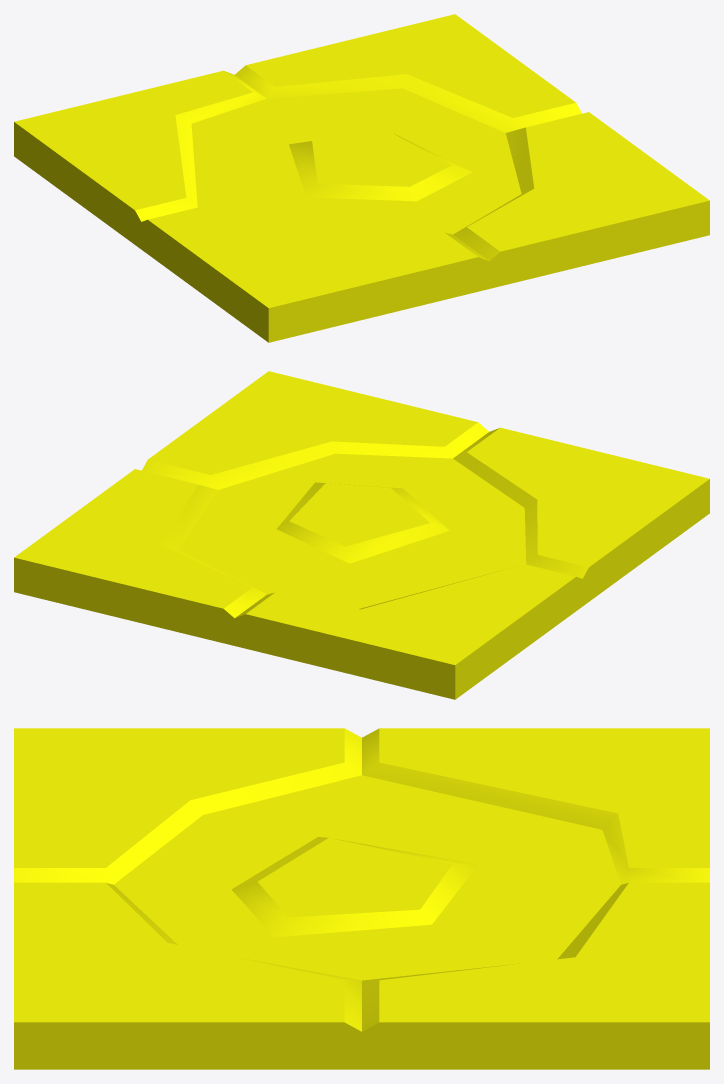
Rendered from kaykit-floor-tile-small-broken-a.glb.
3 views of the same model, one above another, from view 1: azimuth 30°, elevation 25°; view 2: azimuth 150°, elevation 25°; view 3: azimuth 270°, elevation 25° (orthographic). The views are drawn at different scales.
Visible parts, largest first — view 1: floor_tile_small_broken_A; view 2: floor_tile_small_broken_A; view 3: floor_tile_small_broken_A.
Part boxes in pixels (left/top/right/bottom): floor_tile_small_broken_A: left=14, top=14, right=709, bottom=342; floor_tile_small_broken_A: left=14, top=371, right=709, bottom=699; floor_tile_small_broken_A: left=14, top=728, right=709, bottom=1069.
Bounding box in the file's own units: 2 × 0.1499 × 2.
